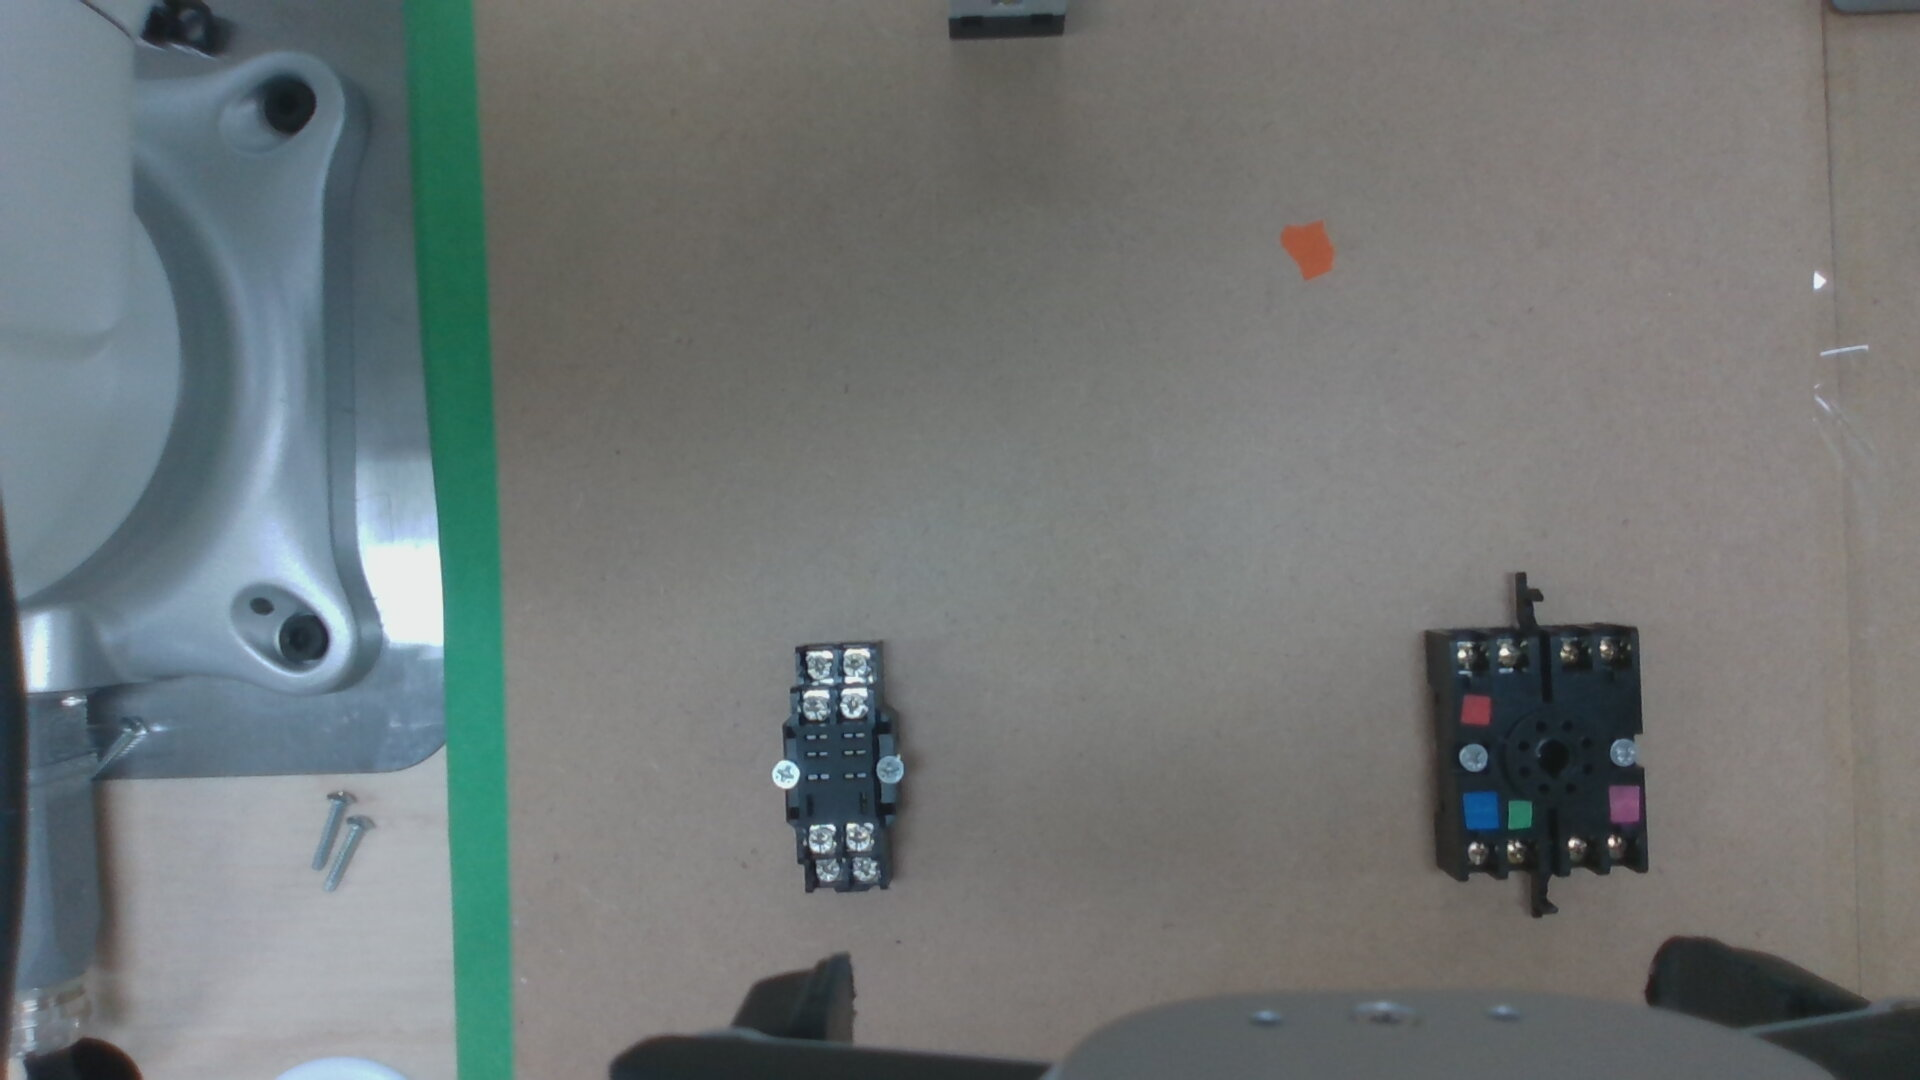relay 3: (843, 649, 870, 679)
relay 4: (804, 654, 832, 680)
relay 5: (851, 857, 877, 884)
relay 6: (808, 860, 843, 886)
relay 7: (843, 822, 872, 852)
relay 8: (806, 823, 836, 852)
